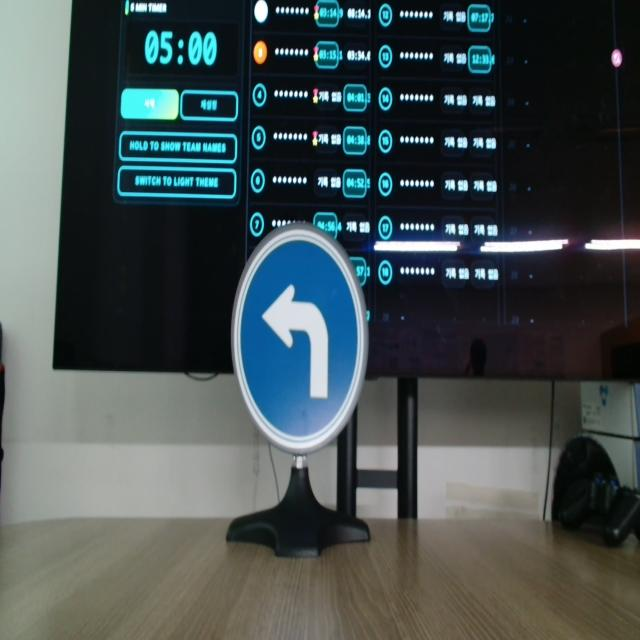left_direction: (230, 226, 370, 455)
